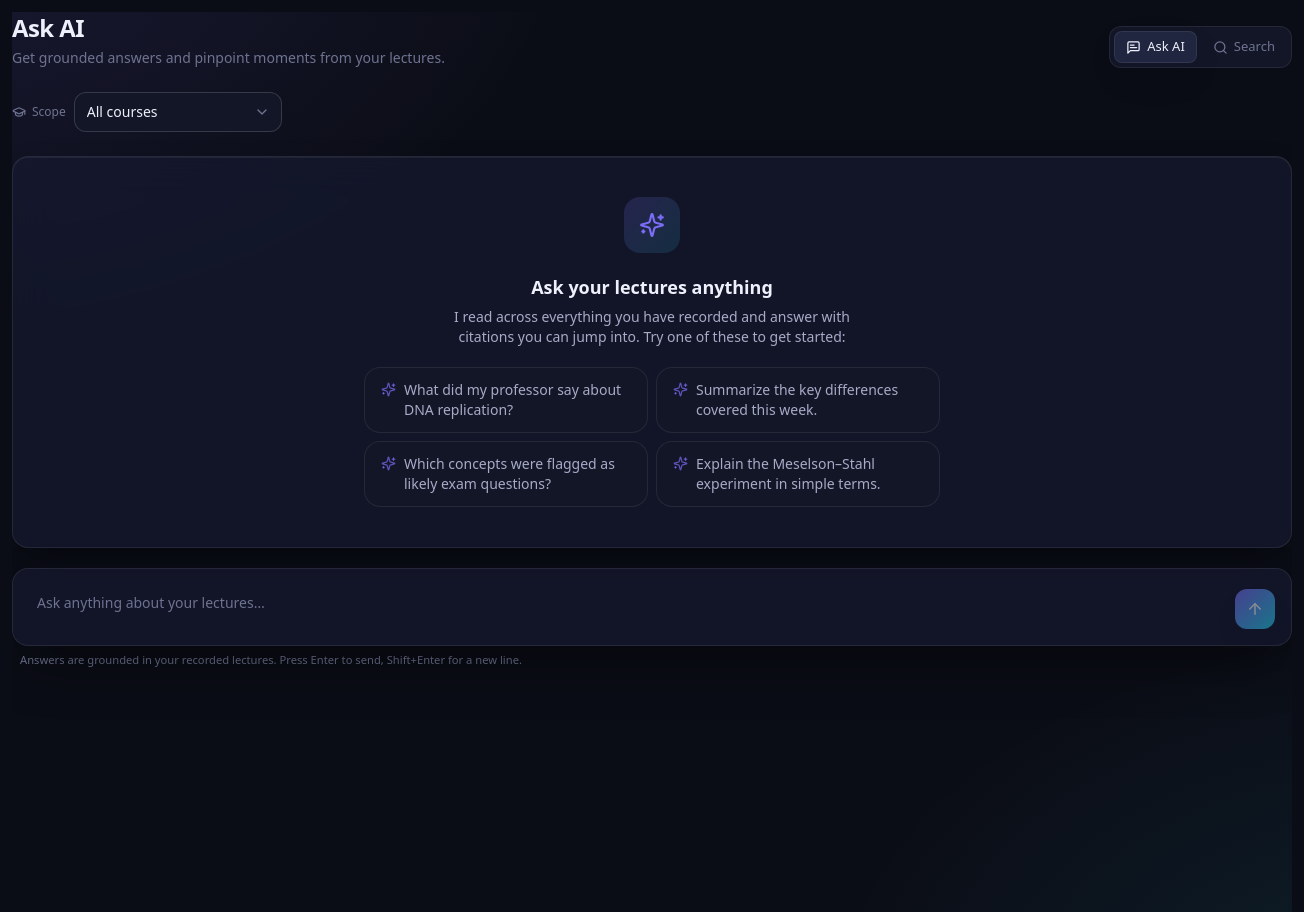
Test: SearchPage › returns ranked hits (Search mode)
The width and height of the screenshot is (1304, 912).
Click the radio button labelled "Search" at {"x": 1244, "y": 47}, box [1201,31,1287,63]
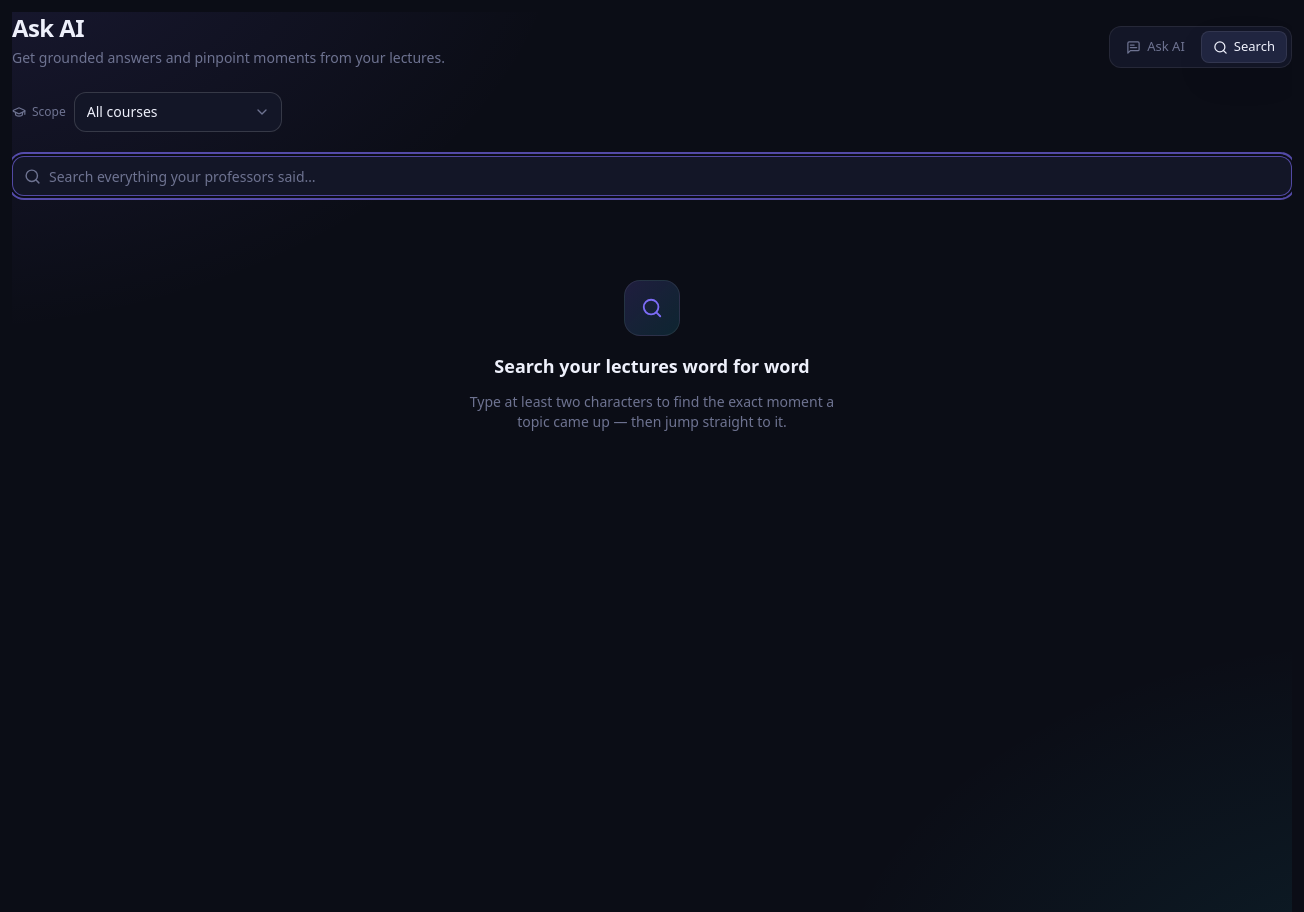
Type "replication" into the field named "Search transcripts" at {"x": 652, "y": 176}, box [12,156,1292,196]
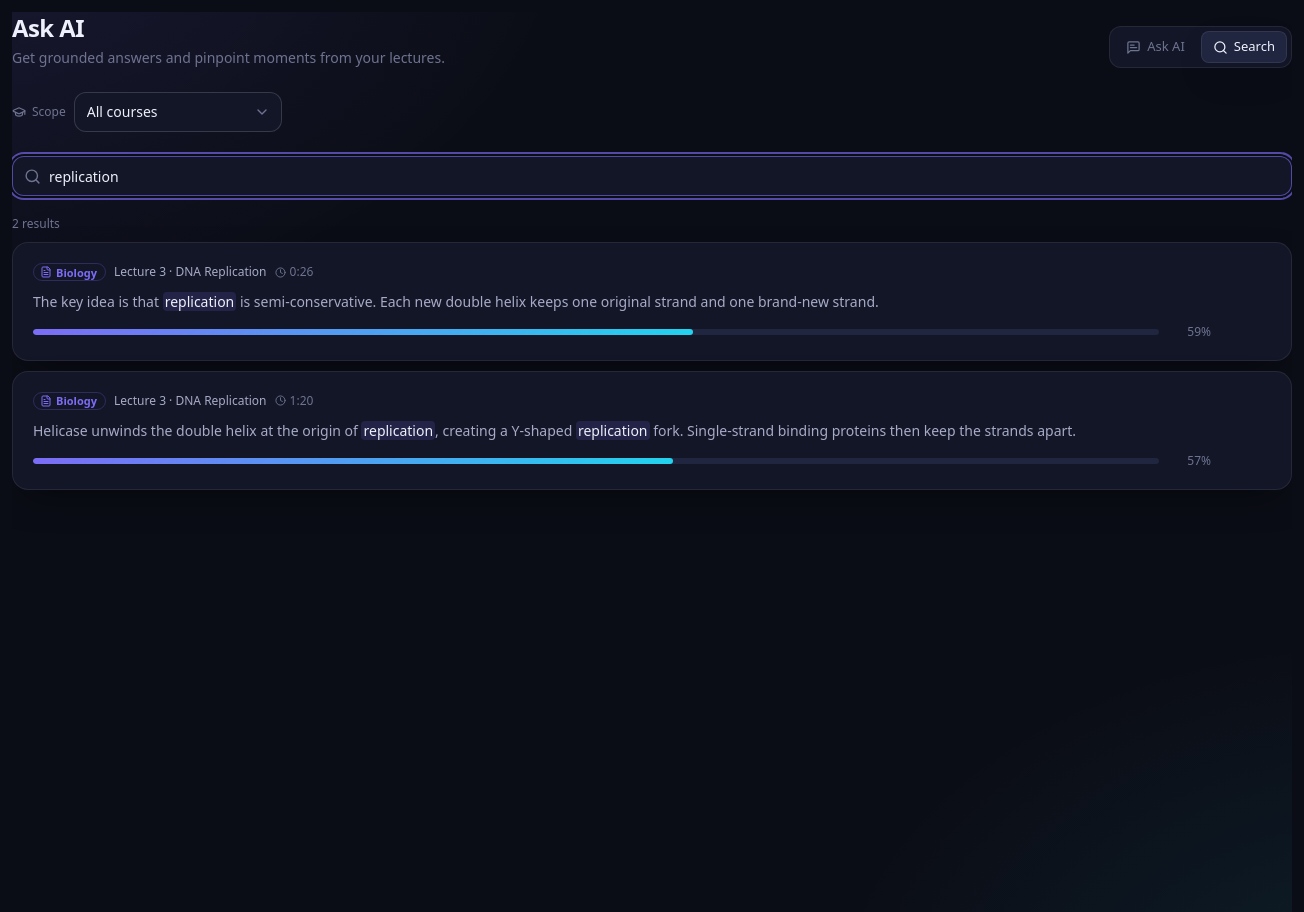
Now the text "2 results" is shown, box [12,215,60,232]
